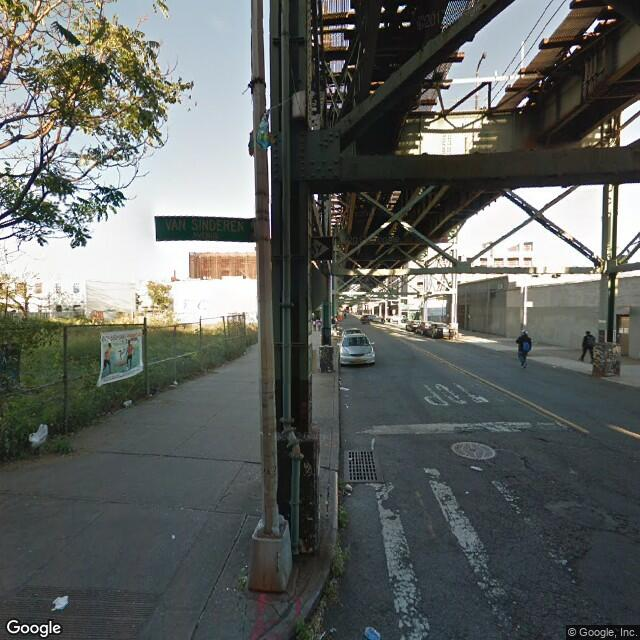litter: (27, 424, 50, 447), (50, 592, 75, 611), (360, 624, 386, 640), (467, 462, 483, 474), (120, 399, 136, 406), (170, 379, 184, 386), (328, 625, 342, 632), (146, 388, 154, 398), (338, 385, 351, 391), (345, 484, 353, 493), (463, 488, 471, 492), (170, 533, 175, 538), (342, 403, 349, 406)
